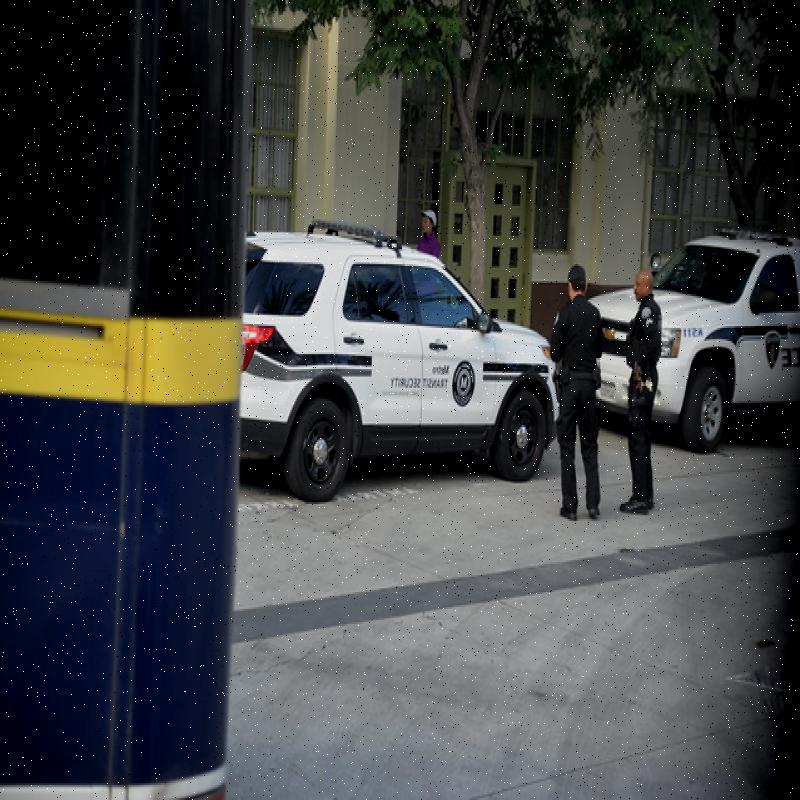car: (195, 202, 588, 511)
